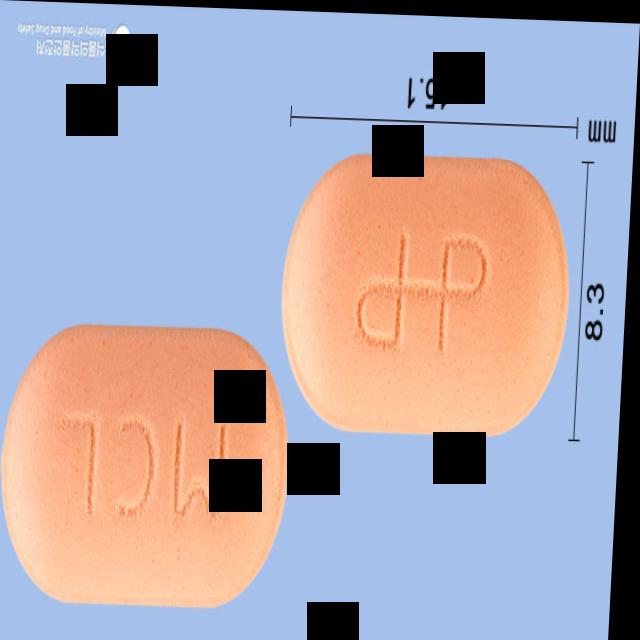Cephamethyl Tab: (275, 141, 579, 441), (0, 312, 301, 612)
